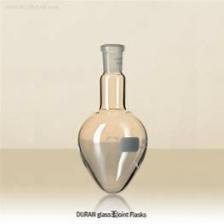Pear shaped flask: (71, 38, 148, 194)
